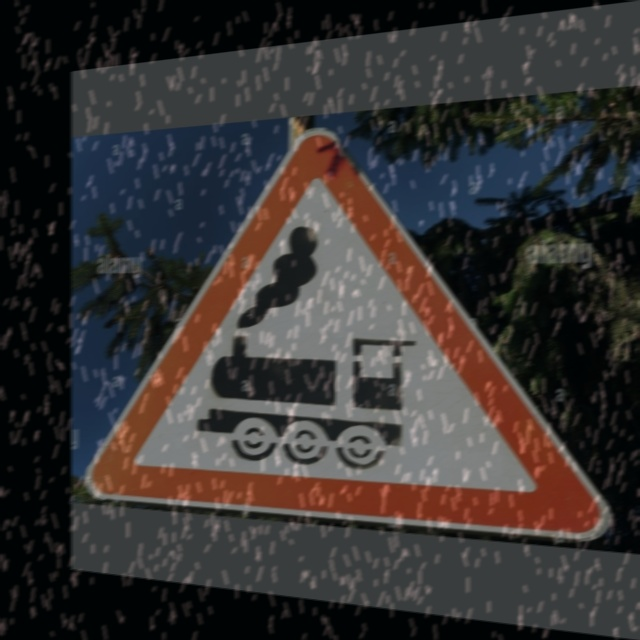Unguarded_Level_Crossing: (121, 135, 540, 527)
